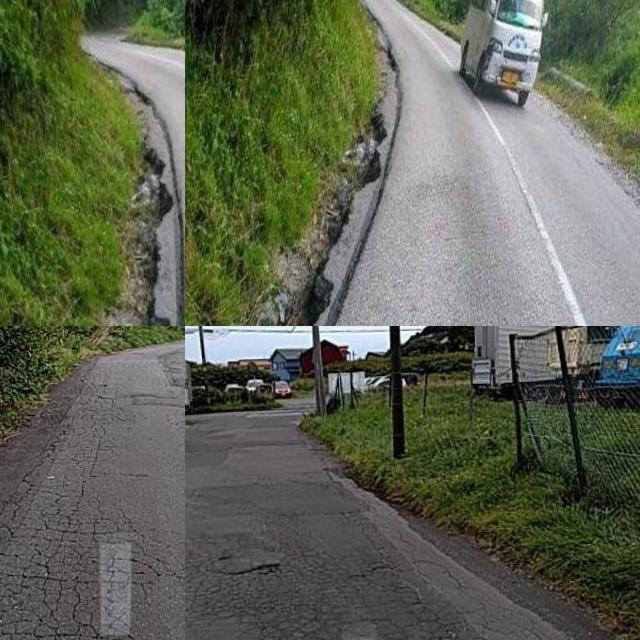Pinggir: (248, 66, 432, 326), (102, 87, 185, 326)
Retak Buaya: (0, 484, 159, 640), (261, 555, 458, 640)
